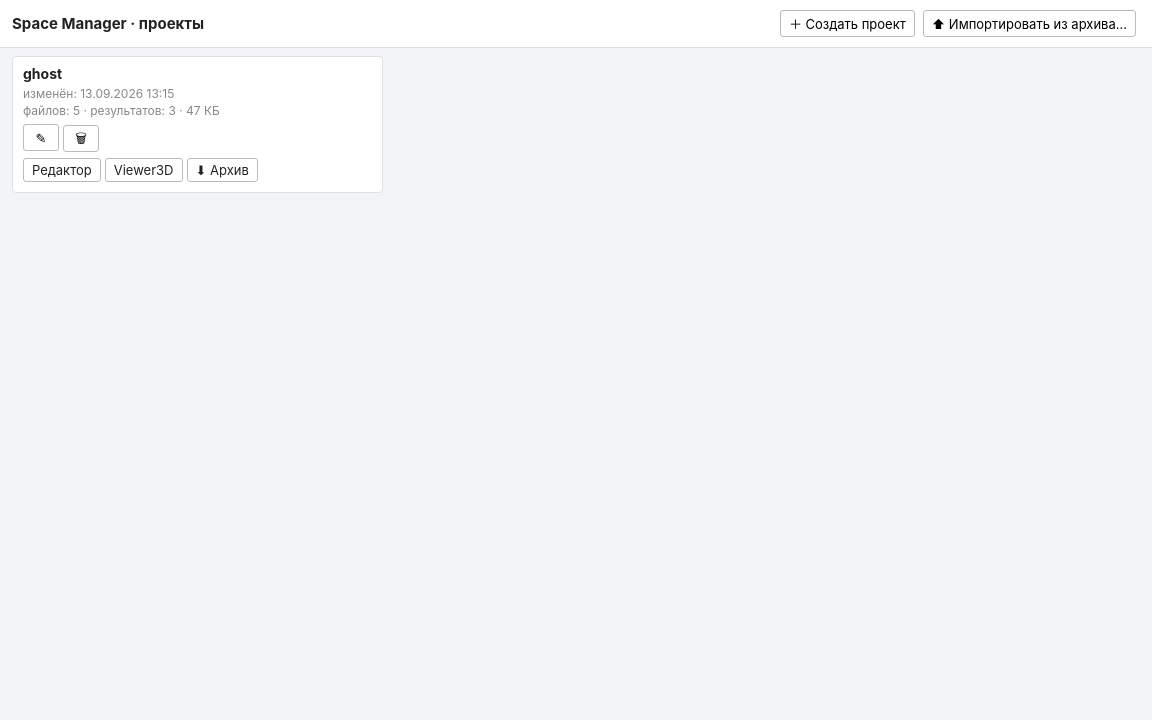
it: удаление проекта › 404 при удалении → баннер с текстом API и [Обновить], модалка закрывается
Expected: the heading "ghost" is shown, [23,65,62,82]
Click the button named "Удалить проект ghost".
click(81, 138)  # box [63,124,99,152]
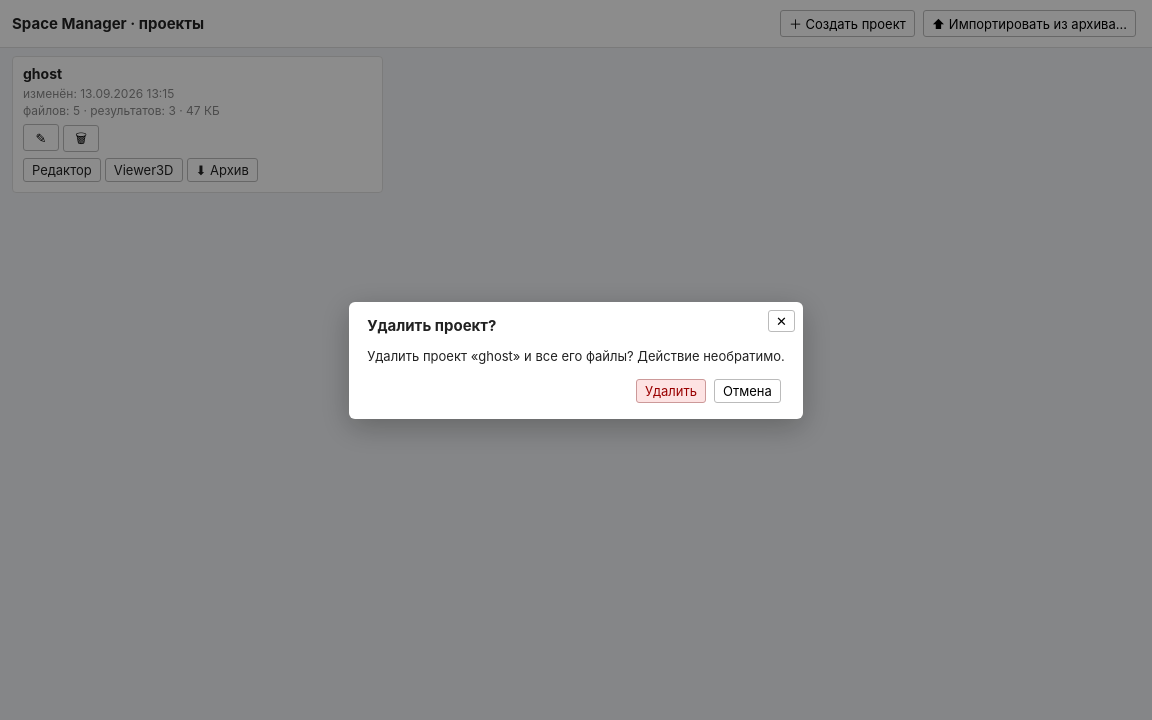
Now the text "Удалить проект «ghost» и все его файлы? Действие необратимо." is shown, box [367,348,785,364]
Click the button "Удалить".
click(671, 390)  # box [636,378,706,402]
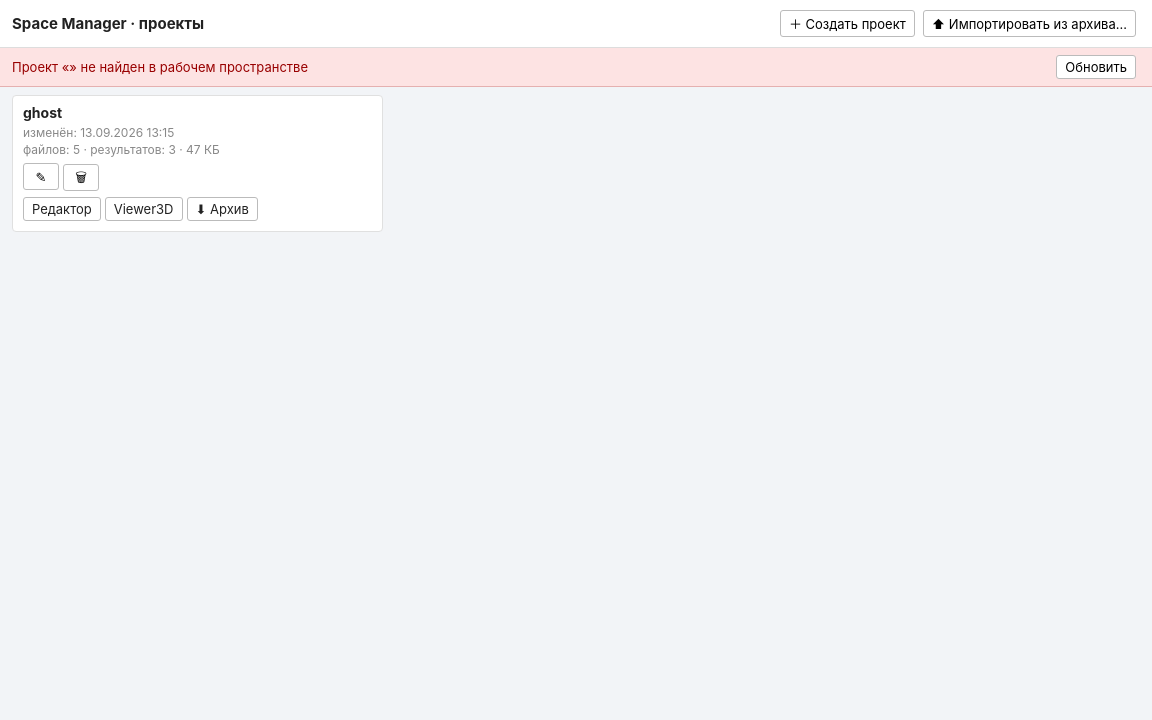
Now the text "Проект «» не найден в рабочем пространстве" is shown, box [12,59,308,75]
Now the button "Обновить" is shown, box [1056,55,1136,79]
Now the dialog with class "modal" is gone
